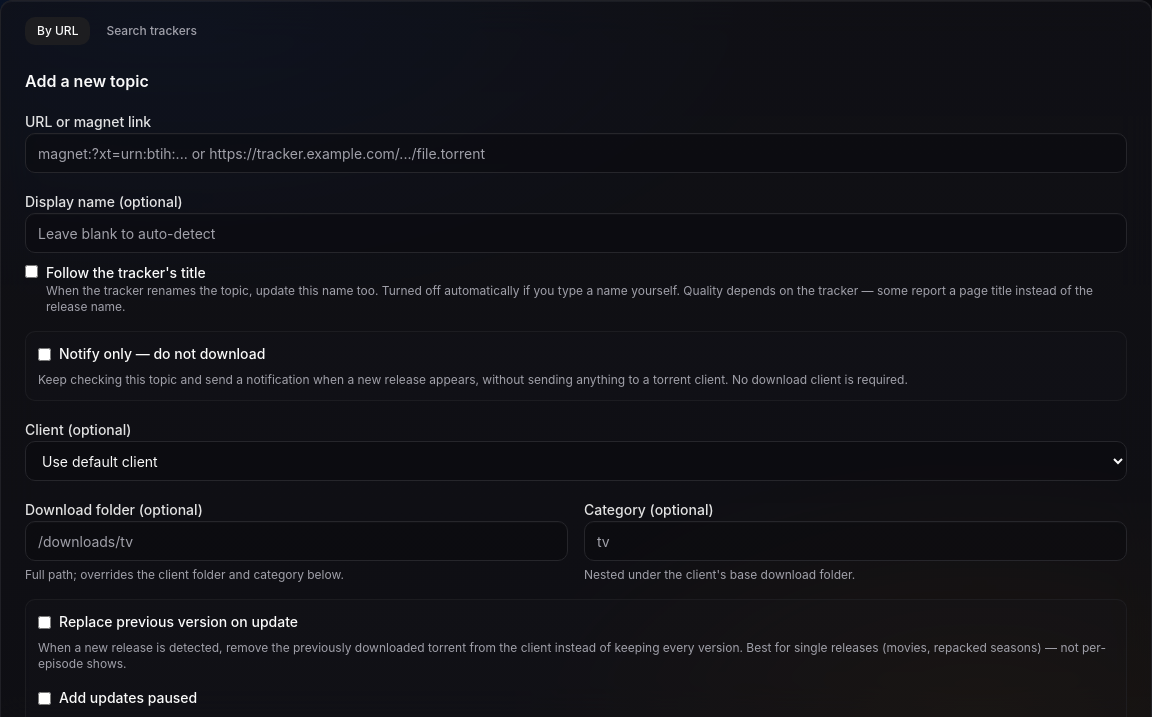
it: AddTopicCard › warns when the explicitly picked notifier ignores new releases
Click the checkbox labelled "Notify only — do not download": (44, 354) [38,348,51,360]
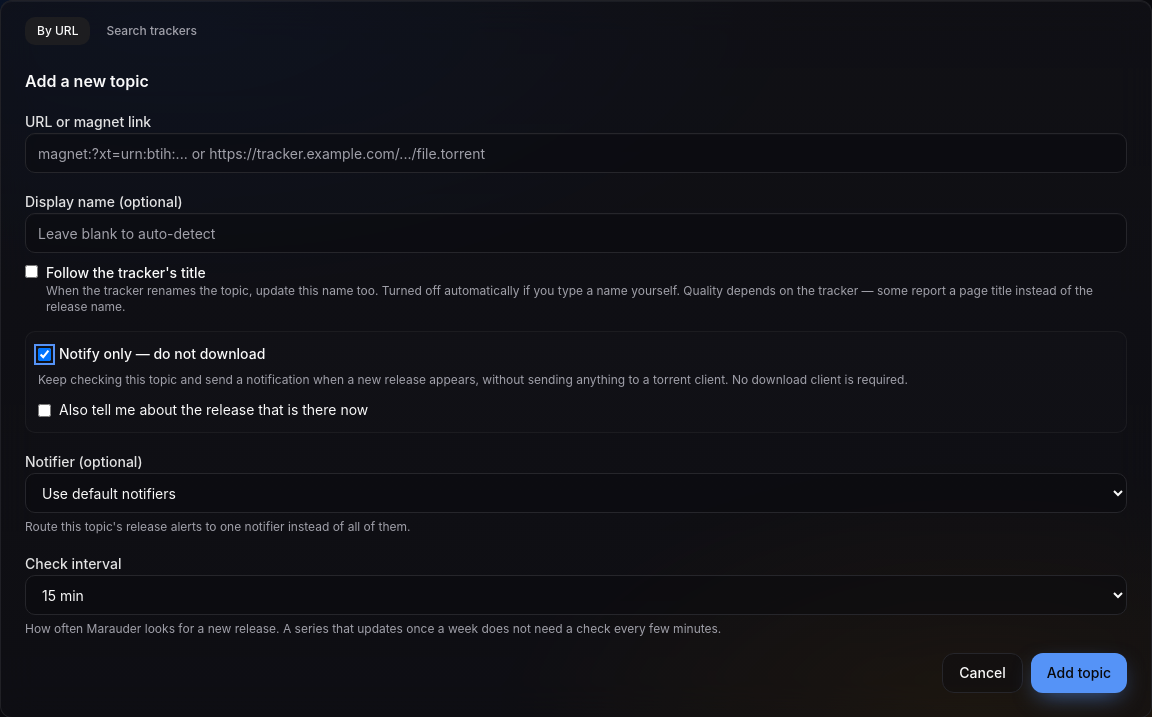
Expected: the text "no notifier that is subscribed to new releases" is not shown
Select "Deaf" in the dropdown labelled "Notifier (optional)": (576, 493) [25,473,1127,513]
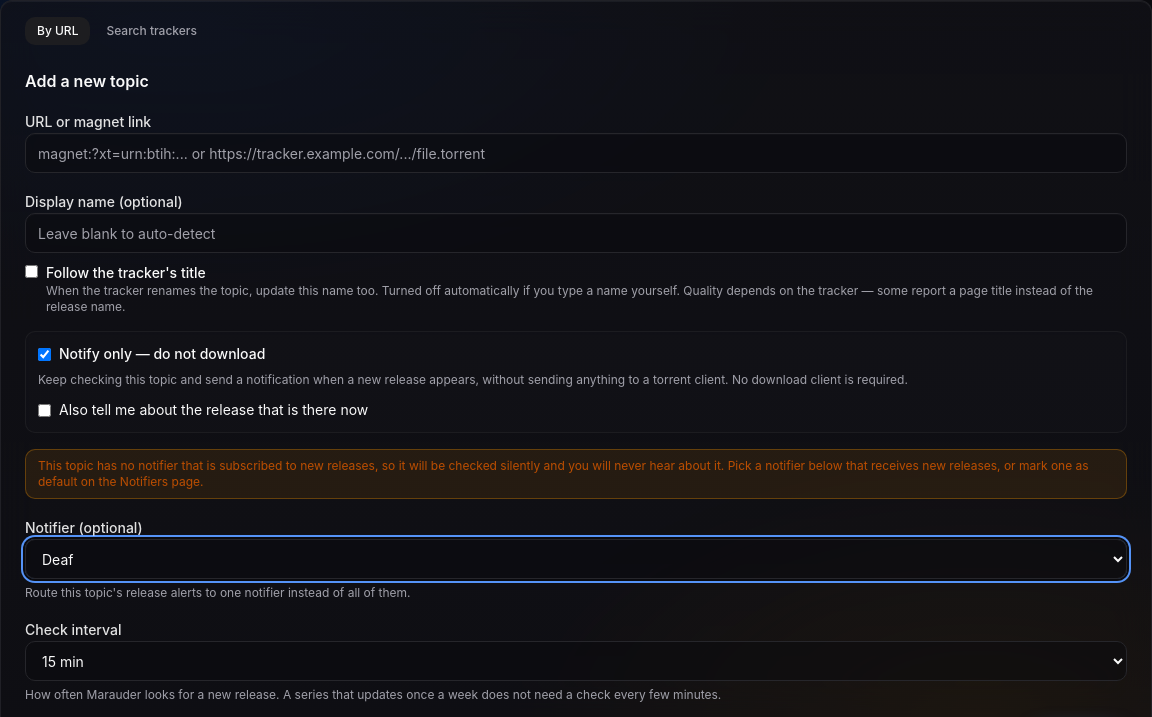
Now the text "no notifier that is subscribed to new releases" is shown, box [38,458,1089,489]
